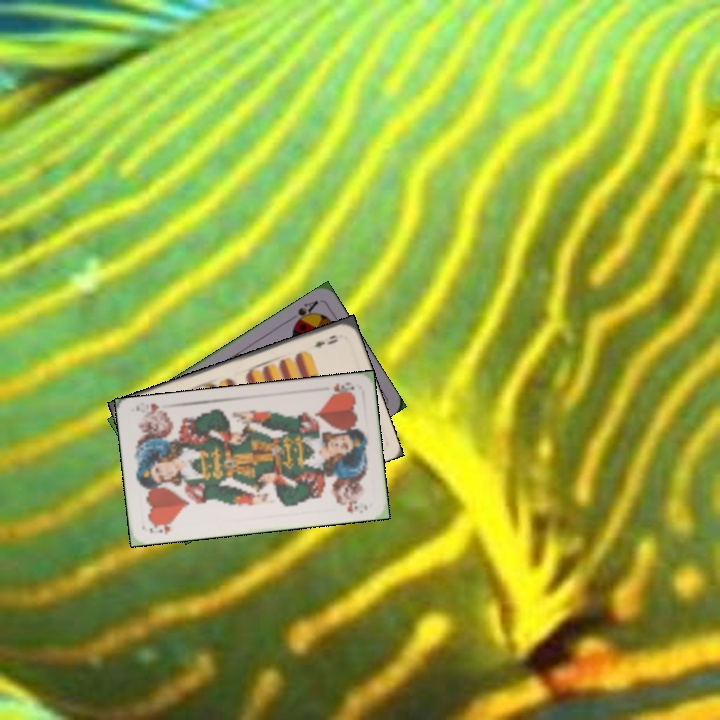E9: (309, 331, 340, 350)
HO: (325, 378, 357, 398), (145, 517, 177, 537)
SA: (289, 296, 321, 329)
